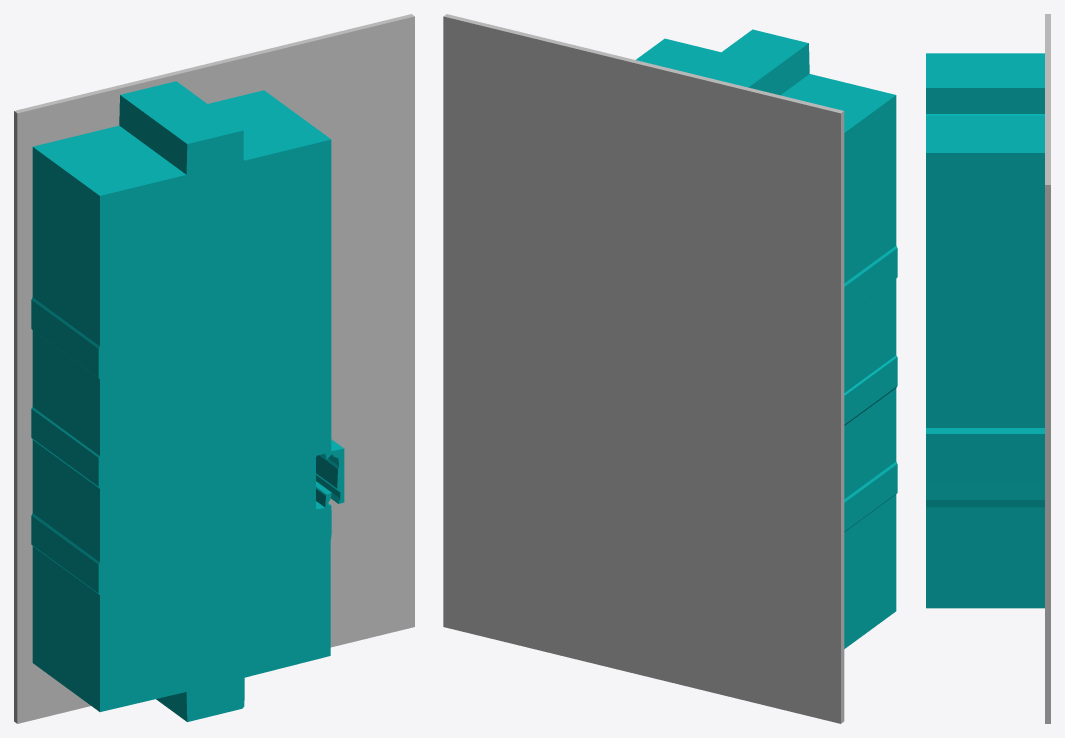
3 renders of one model, left to right at view 1: azimuth 30°, elevation 25°; view 2: azimuth 150°, elevation 25°; view 3: azimuth 270°, elevation 25°, orthographic. The views are drawn at different scales.
Parts seen in each view (by area): view 1: world; view 2: world; view 3: world.
Part boxes in pixels (x1,y1,x2,y2): world: (14,14,414,723); world: (443,14,897,723); world: (926,14,1050,723).
Size of the model in its own units: 10.23 by 15.02 by 3.15.
